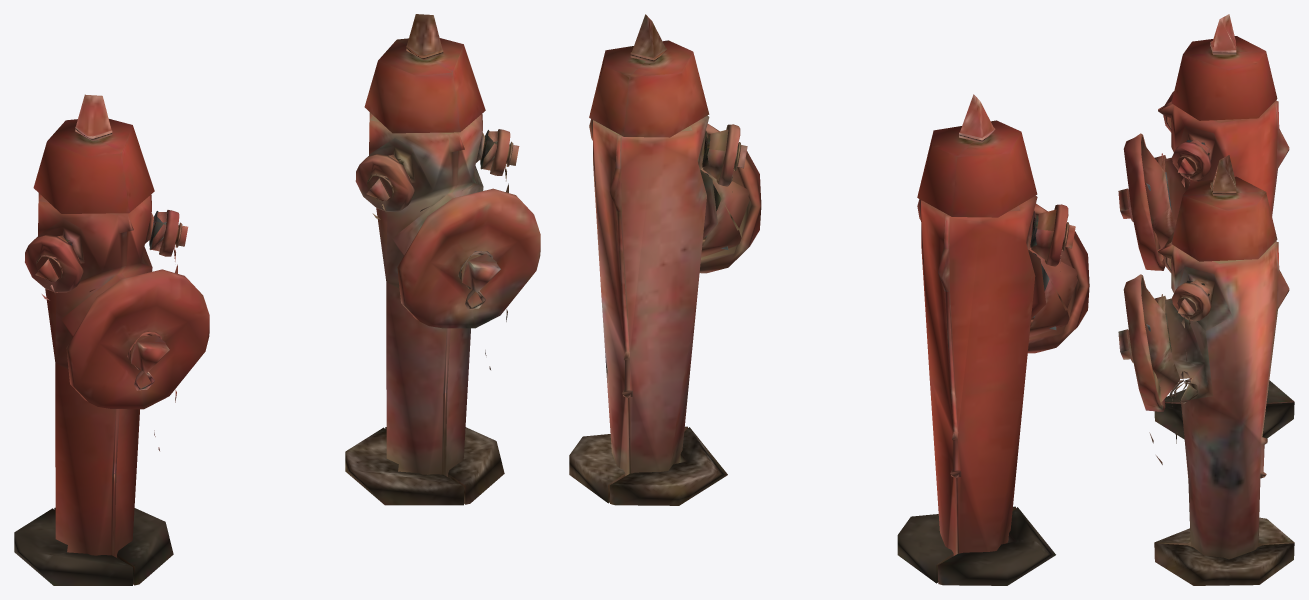
Rendered from hydrant_lo.glb.
3 views of the same model, side by side, from view 1: azimuth 30°, elevation 25°; view 2: azimuth 150°, elevation 25°; view 3: azimuth 270°, elevation 25° (orthographic). The views are drawn at different scales.
Visible parts, largest first — view 1: fire_hydrant_aged, fire_hydrant, fire_hydrant_cap_01_aged, fire_hydrant_cap_01, fire_hydrant_cap_03, fire_hydrant_cap_03_aged, fire_hydrant_cap_02, fire_hydrant_cap_02_aged; view 2: fire_hydrant, fire_hydrant_aged, fire_hydrant_cap_01, fire_hydrant_cap_01_aged, fire_hydrant_cap_03, fire_hydrant_cap_03_aged; view 3: fire_hydrant_aged, fire_hydrant, fire_hydrant_cap_01_aged, fire_hydrant_cap_01, fire_hydrant_cap_02_aged, fire_hydrant_cap_02, fire_hydrant_chain_aged.
Part boxes in pixels (left/top/right/bottom): fire_hydrant_aged: left=345, top=14, right=504, bottom=505; fire_hydrant: left=14, top=94, right=173, bottom=585; fire_hydrant_cap_01_aged: left=397, top=188, right=540, bottom=328; fire_hydrant_cap_01: left=66, top=269, right=209, bottom=409; fire_hydrant_cap_03: left=25, top=234, right=83, bottom=292; fire_hydrant_cap_03_aged: left=355, top=154, right=415, bottom=211; fire_hydrant_cap_02: left=159, top=210, right=188, bottom=256; fire_hydrant_cap_02_aged: left=490, top=129, right=519, bottom=175; fire_hydrant: left=897, top=94, right=1078, bottom=585; fire_hydrant_aged: left=569, top=14, right=750, bottom=505; fire_hydrant_cap_01: left=1027, top=203, right=1089, bottom=353; fire_hydrant_cap_01_aged: left=699, top=123, right=761, bottom=273; fire_hydrant_cap_03: left=1045, top=204, right=1075, bottom=266; fire_hydrant_cap_03_aged: left=716, top=124, right=747, bottom=186; fire_hydrant_aged: left=1141, top=155, right=1294, bottom=585; fire_hydrant: left=1141, top=14, right=1294, bottom=439; fire_hydrant_cap_01_aged: left=1118, top=274, right=1165, bottom=411; fire_hydrant_cap_01: left=1118, top=133, right=1165, bottom=270; fire_hydrant_cap_02_aged: left=1172, top=282, right=1211, bottom=321; fire_hydrant_cap_02: left=1172, top=141, right=1211, bottom=180; fire_hydrant_chain_aged: left=1149, top=294, right=1198, bottom=464.
Bounding box in the file's own units: 0.8742 × 0.7992 × 0.3173.
Materials: 2 (2 with a texture image).
